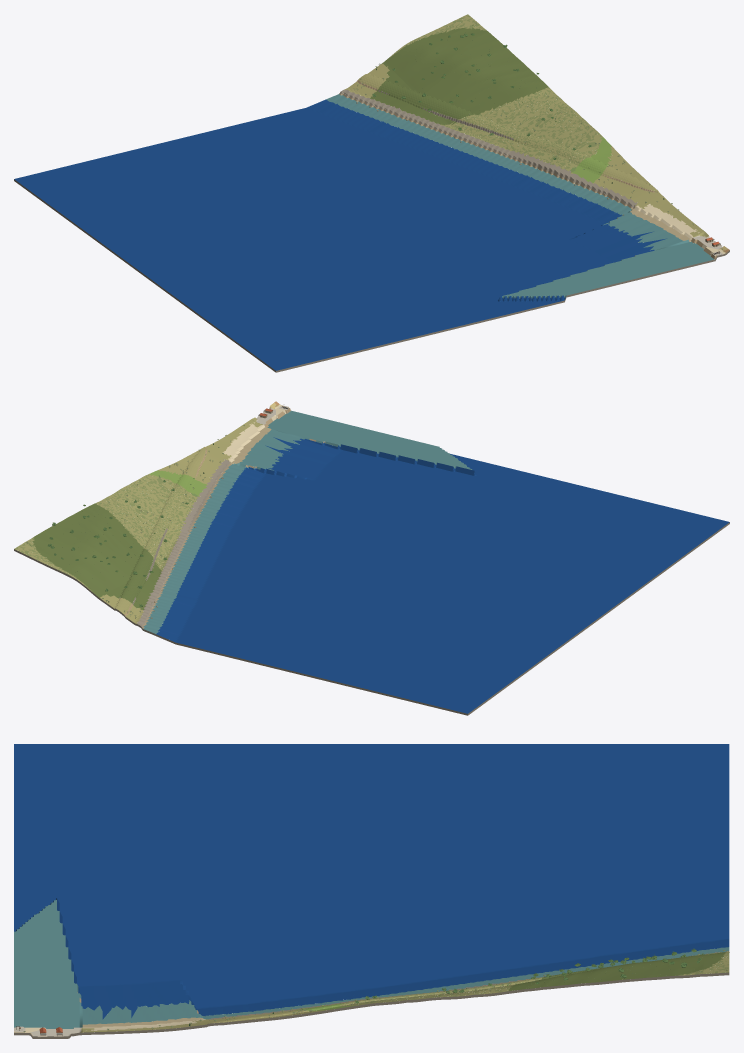
The model's file is parca_-1_+0-yakin.glb.
3 renders of one model, top to bottom at view 1: azimuth 30°, elevation 25°; view 2: azimuth 150°, elevation 25°; view 3: azimuth 270°, elevation 25°, orthographic. The views are drawn at different scales.
Parts seen in each view (by area): view 1: parca_-1_+0_arazi, parca_-1_+0_bitkiler; view 2: parca_-1_+0_arazi, parca_-1_+0_bitkiler; view 3: parca_-1_+0_arazi, parca_-1_+0_bitkiler.
Boxes of the visible parts, x1=… form: parca_-1_+0_arazi: x1=14, y1=14, x2=729, y2=372; parca_-1_+0_bitkiler: x1=354, y1=22, x2=722, y2=249; parca_-1_+0_arazi: x1=14, y1=401, x2=729, y2=715; parca_-1_+0_bitkiler: x1=26, y1=405, x2=276, y2=618; parca_-1_+0_arazi: x1=14, y1=744, x2=729, y2=1038; parca_-1_+0_bitkiler: x1=23, y1=948, x2=729, y2=1032.
Bounding box in the file's own units: 1003 × 118 × 1001.
